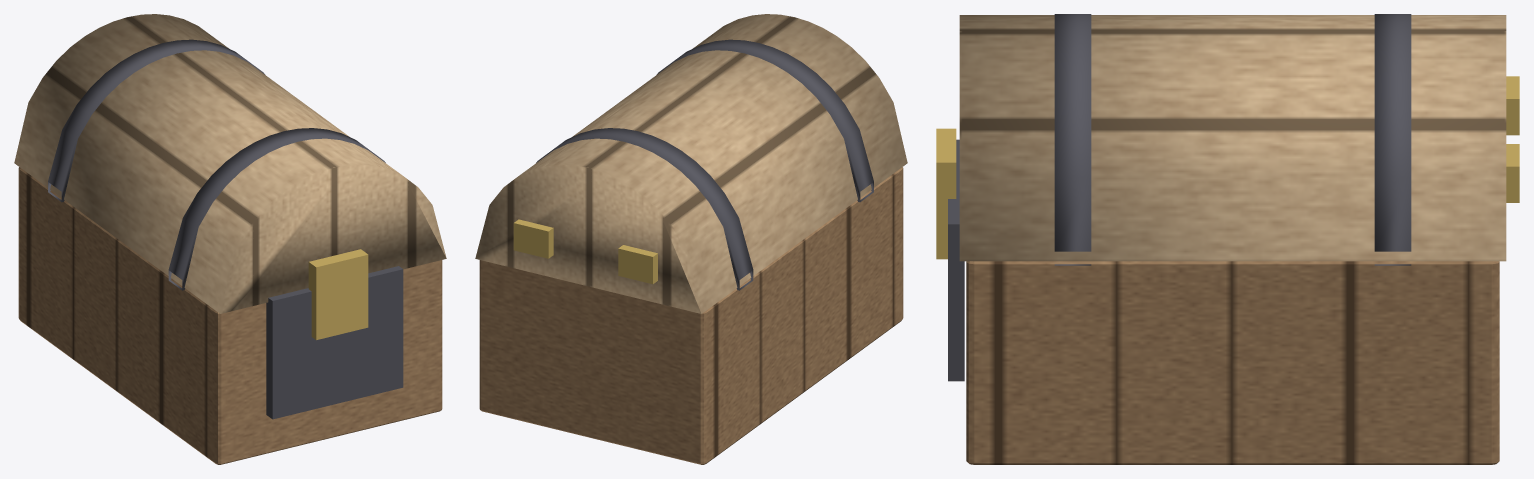
The model's file is chest.glb.
3 views of the same model, side by side, from view 1: azimuth 30°, elevation 25°; view 2: azimuth 150°, elevation 25°; view 3: azimuth 270°, elevation 25° (orthographic). The views are drawn at different scales.
Parts seen in each view (by area): view 1: ch_lid, ch_body, ch_band_f1, ch_lock, ch_band, ch_band.001; view 2: ch_lid, ch_body, ch_band.001, ch_band, ch_h2, ch_h1; view 3: ch_lid, ch_body, ch_band, ch_band.001, ch_band_f1, ch_lock, ch_h1, ch_h2.
Boxes of the visible parts, x1,y1,x2,y2 form: ch_lid: (14, 14, 446, 313); ch_body: (18, 167, 442, 464); ch_band_f1: (266, 266, 403, 419); ch_lock: (308, 249, 368, 340); ch_band: (168, 128, 385, 290); ch_band.001: (48, 39, 265, 202); ch_lid: (475, 14, 907, 313); ch_body: (479, 167, 903, 464); ch_band.001: (536, 128, 753, 290); ch_band: (656, 39, 873, 202); ch_h2: (513, 219, 553, 258); ch_h1: (618, 245, 657, 284); ch_lid: (959, 15, 1506, 261); ch_body: (966, 261, 1499, 464); ch_band: (1054, 14, 1091, 265); ch_band.001: (1374, 14, 1411, 265); ch_band_f1: (948, 139, 964, 381); ch_lock: (936, 128, 956, 259); ch_h1: (1506, 76, 1519, 135); ch_h2: (1506, 144, 1519, 202).
Size of the model in its own units: 0.53 by 0.601 by 0.875.
4 materials, 2 textured.
